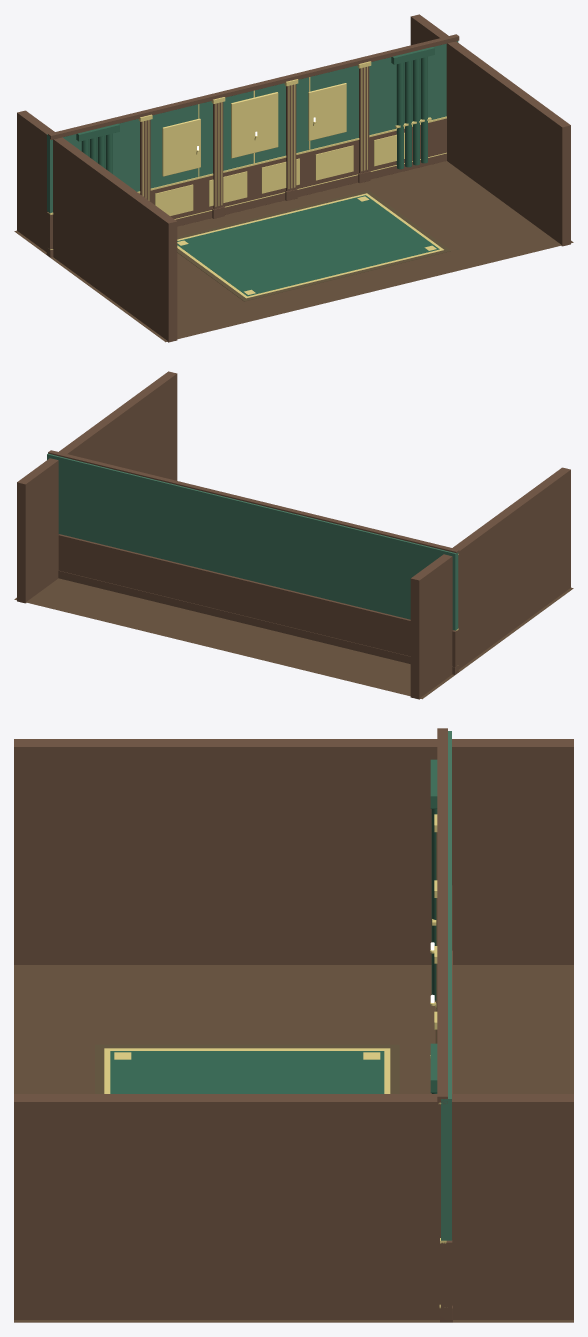
The model's file is room_classic_club.glb.
The picture shows the model from 3 angles, top to bottom: view 1: azimuth 30°, elevation 25°; view 2: azimuth 150°, elevation 25°; view 3: azimuth 270°, elevation 25°; orthographic projection. The views are drawn at different scales.
Parts seen in each view (by area): view 1: Floor.004, SideWall_Left.004, SideWall_Right.004, ClubRug_Inner.004, BackWall_Upper.004, BackWall_Lower.004, CrownMolding.004, FrameOuter_CenterGrandArt.004, ClubRug_Outer.004, FrameOuter_RightArt.004, FrameOuter_LeftArt.004, Baseboard.004 (+15 smaller); view 2: BackWall_Upper.004, SideWall_Left.004, BackWall_Lower.004, Floor.004, SideWall_Right.004, Baseboard.004, CrownMolding.004; view 3: SideWall_Right.004, SideWall_Left.004, Floor.004, ClubRug_Inner.004, CrownMolding.004, BackWall_Upper.004, ClubRug_Outer.004, ClubRug_Stripe.004, BackWall_Lower.004, DraperyFold_Left_3.004.
Part boxes in pixels (x1,y1,x2,y2): Floor.004: (14, 161, 573, 342); SideWall_Left.004: (17, 110, 177, 342); SideWall_Right.004: (410, 14, 570, 246); ClubRug_Inner.004: (177, 195, 439, 296); BackWall_Upper.004: (47, 41, 458, 212); BackWall_Lower.004: (47, 118, 446, 249); CrownMolding.004: (48, 34, 459, 139); FrameOuter_CenterGrandArt.004: (231, 92, 278, 158); ClubRug_Outer.004: (177, 190, 450, 301); FrameOuter_RightArt.004: (308, 83, 346, 140); FrameOuter_LeftArt.004: (162, 118, 200, 176); Baseboard.004: (46, 153, 446, 257); BackWall_Upper.004: (47, 453, 458, 630); SideWall_Left.004: (410, 467, 570, 699); BackWall_Lower.004: (58, 534, 458, 667); Floor.004: (14, 578, 573, 699); SideWall_Right.004: (17, 371, 177, 603); Baseboard.004: (58, 570, 458, 674); CrownMolding.004: (48, 450, 459, 553); SideWall_Right.004: (14, 1094, 573, 1319); SideWall_Left.004: (14, 739, 573, 964); Floor.004: (14, 965, 573, 1322); ClubRug_Inner.004: (110, 1051, 384, 1093); CrownMolding.004: (437, 728, 447, 1104); BackWall_Upper.004: (441, 731, 451, 1240); ClubRug_Outer.004: (95, 1044, 399, 1093); ClubRug_Stripe.004: (104, 1048, 390, 1093); BackWall_Lower.004: (440, 885, 452, 1308); DraperyFold_Left_3.004: (431, 809, 437, 1000).
Bounding box in the file's own units: 28 × 8.09 × 18.
